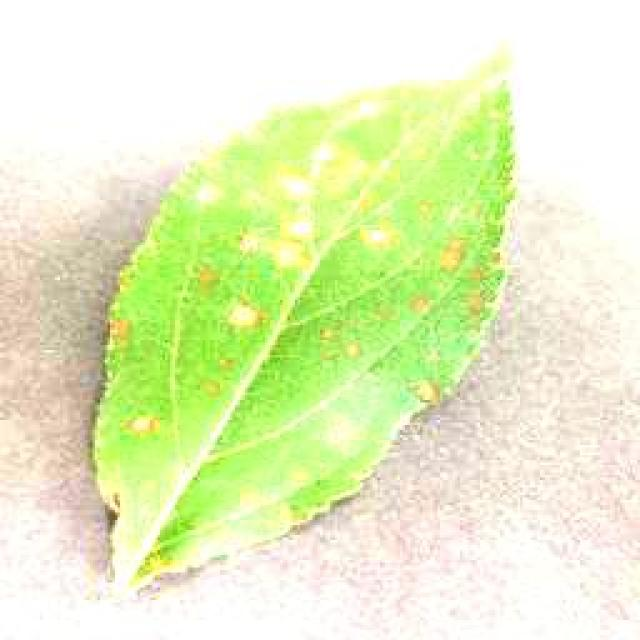apple healthy: (88, 52, 520, 592)
